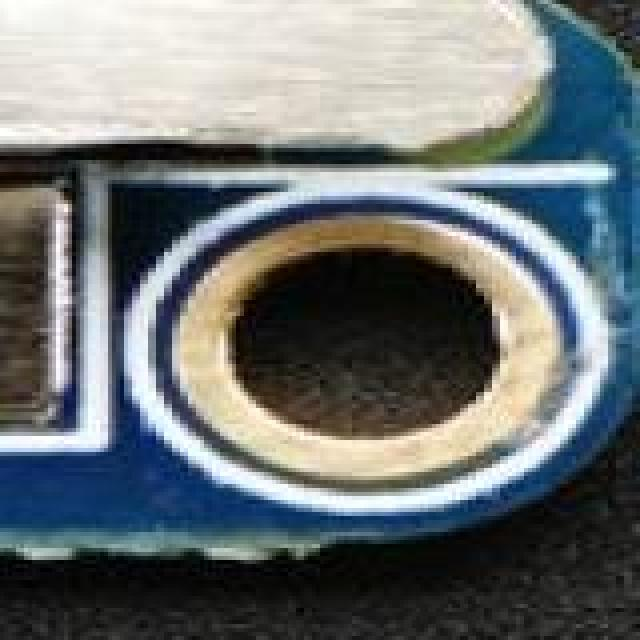battery: (0, 0, 544, 176)
